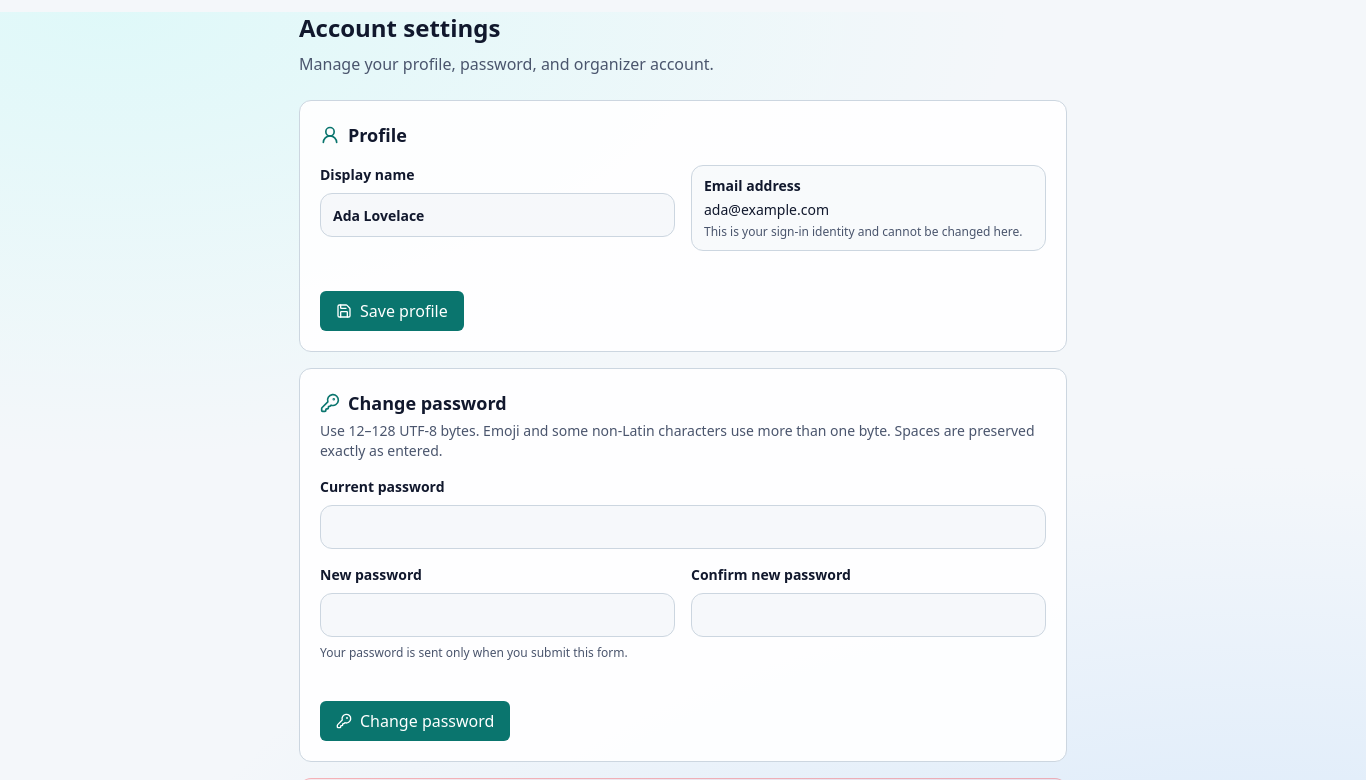
Test: AccountSettingsPage › rejects a password confirmation mismatch
This screenshot has width=1366, height=780.
Check: the heading "Account settings" is shown, box [299,11,500,44]
Type "current password" into the password field labelled "Current password" at [683, 527], box [320,505,1046,549]
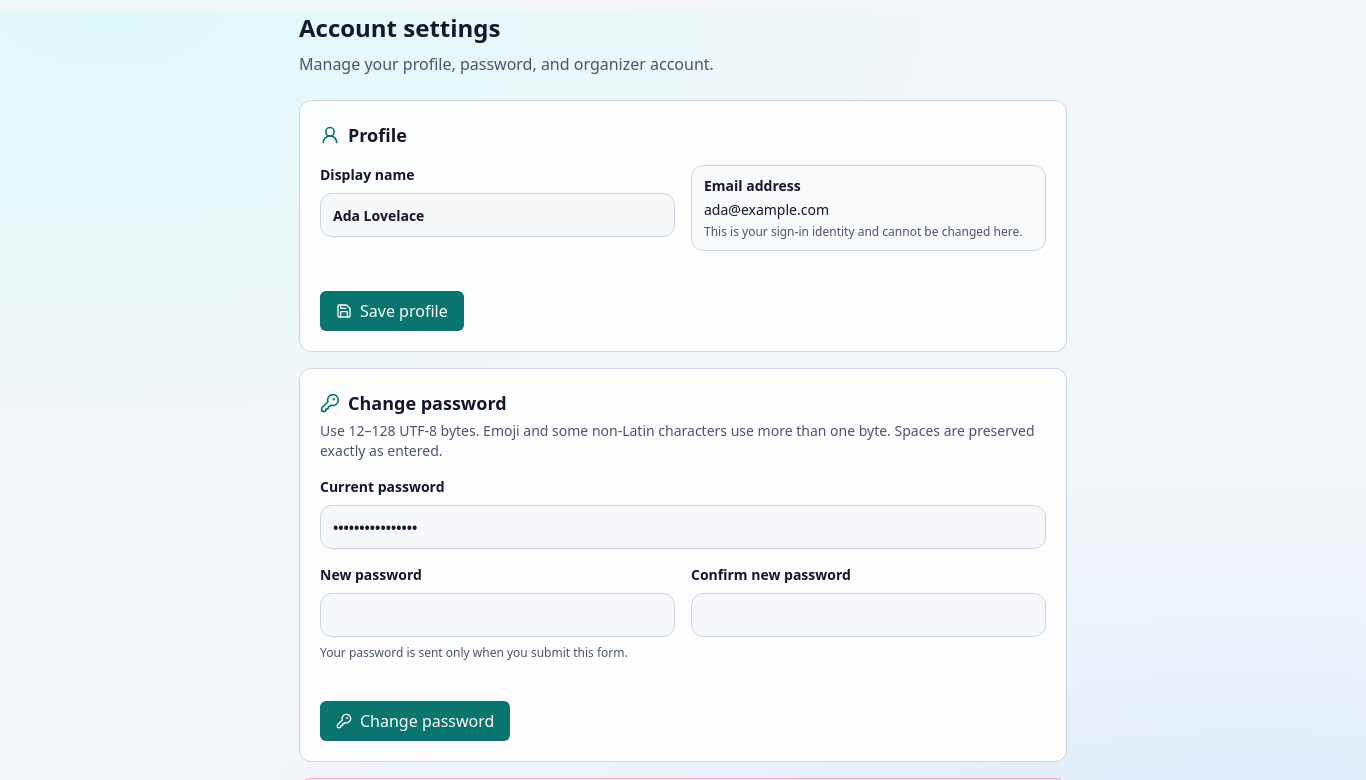
Type "a long new password" into the password field labelled "New password" at [498, 615], box [320,593,675,637]
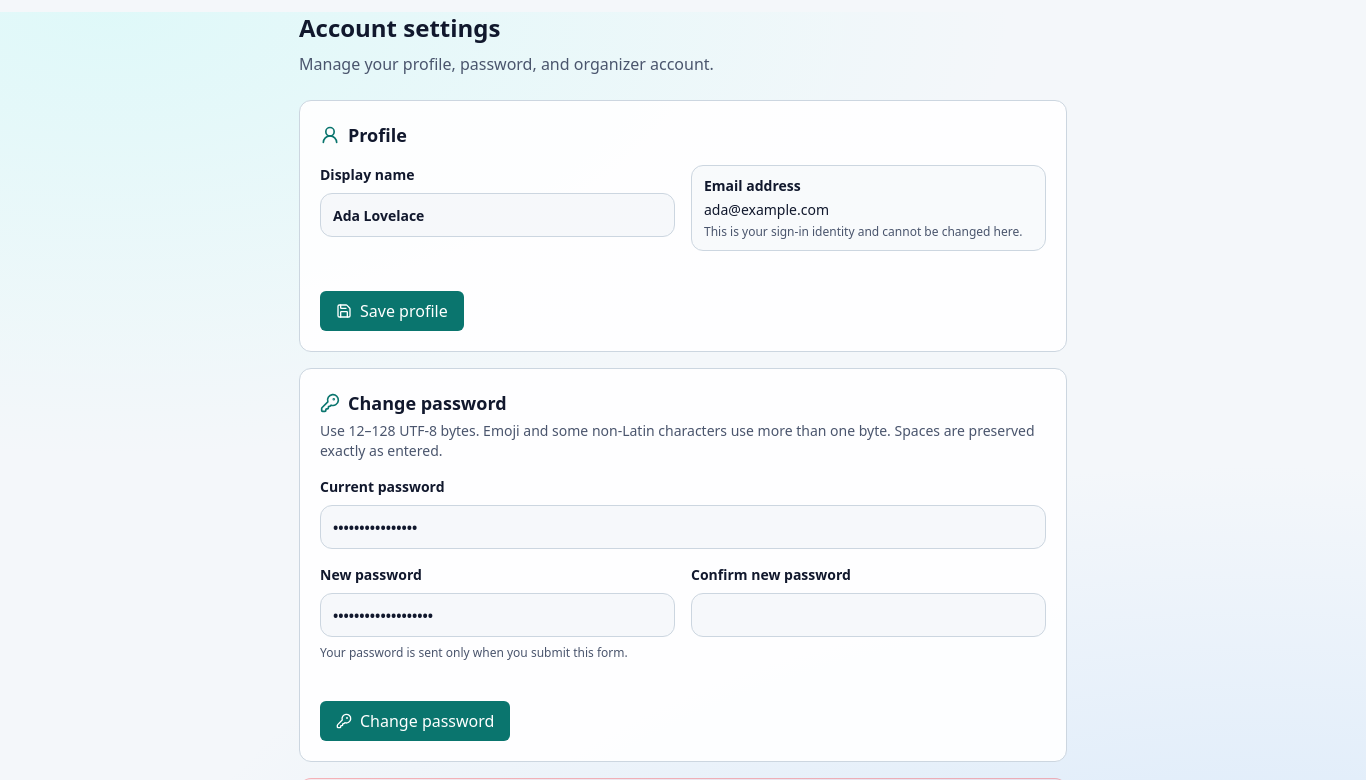
Type "a different password" into the password field labelled "Confirm new password" at [868, 615], box [691,593,1046,637]
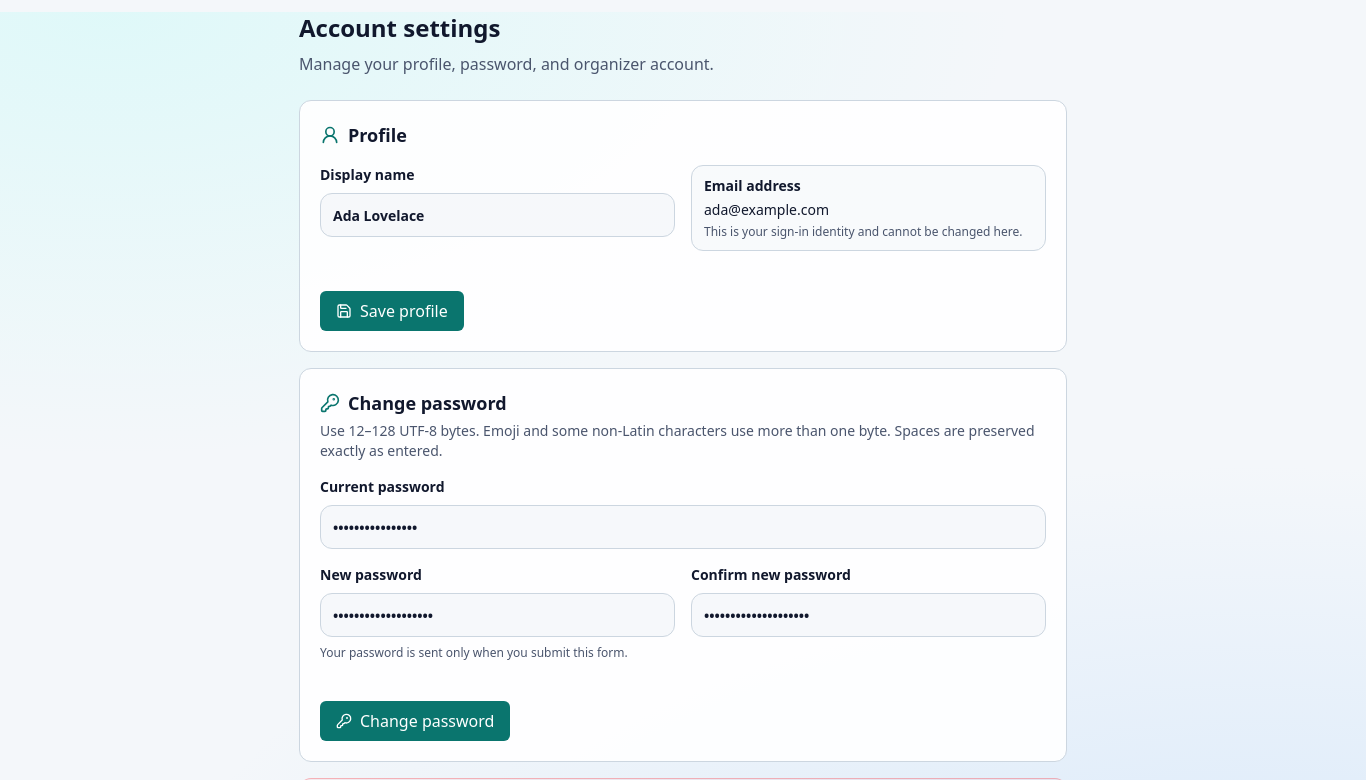
Click the button "Change password" at [415, 721], box [320,701,510,741]
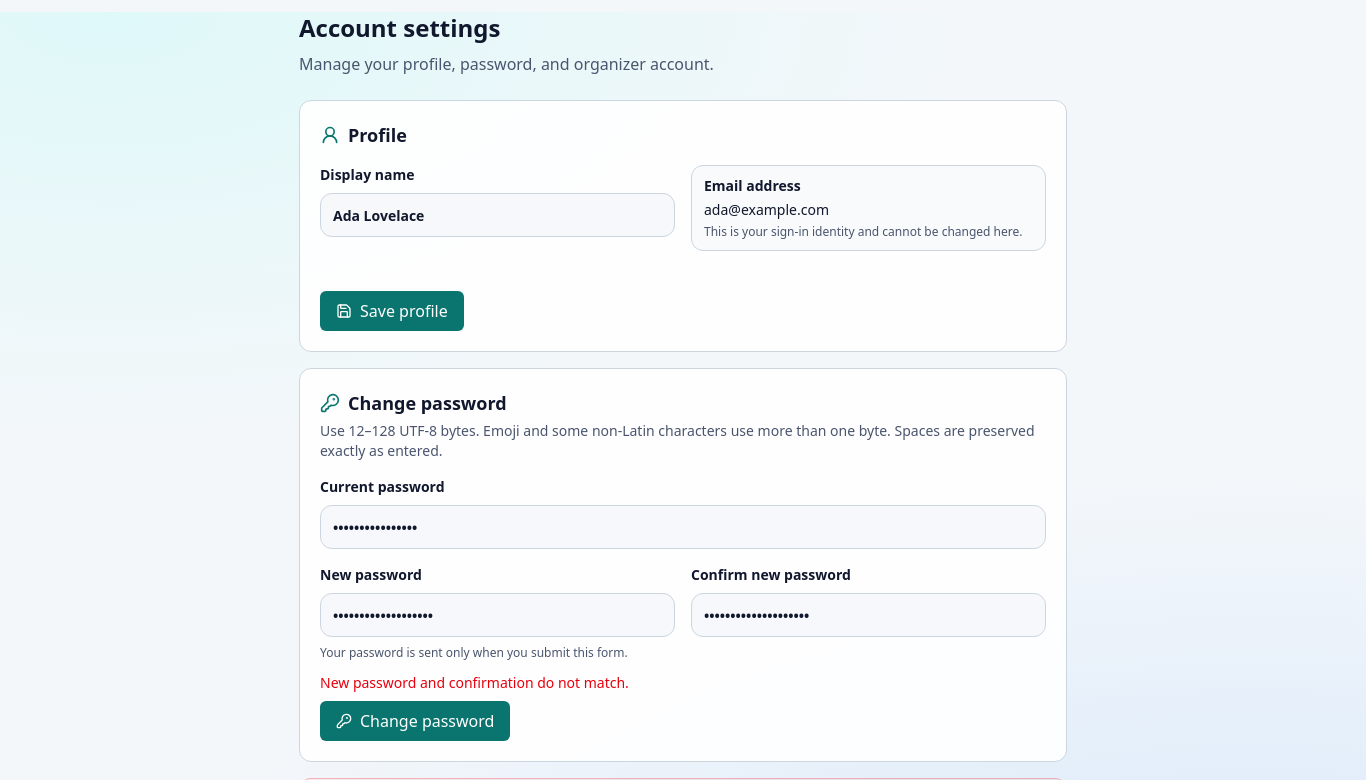
Check: the text "New password and confirmation do not match." is shown, box [320,673,629,692]
